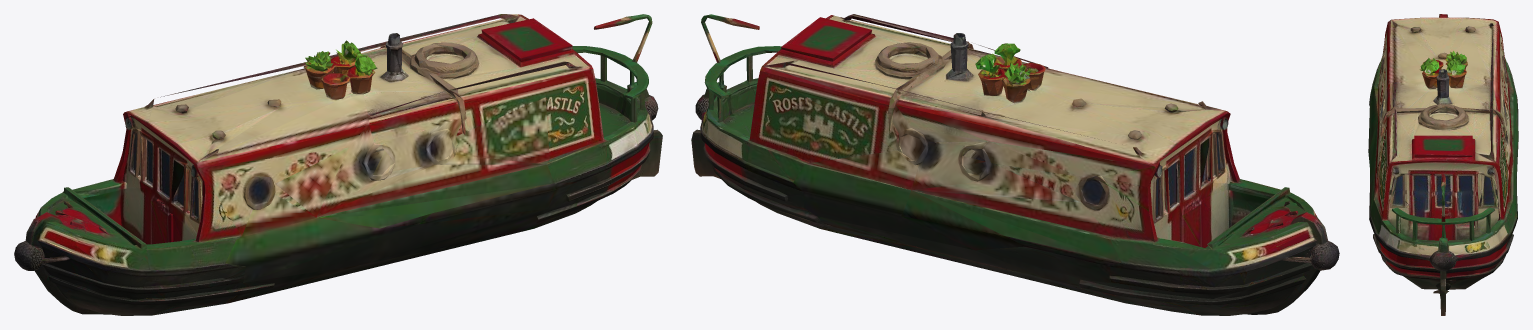
The model's file is prop-boat.glb.
3 renders of one model, left to right at view 1: azimuth 30°, elevation 25°; view 2: azimuth 150°, elevation 25°; view 3: azimuth 270°, elevation 25°, orthographic. The views are drawn at different scales.
Bounding box in the file's own units: 1.9 × 0.609 × 0.5154.
Materials: 1 (1 with a texture image).
